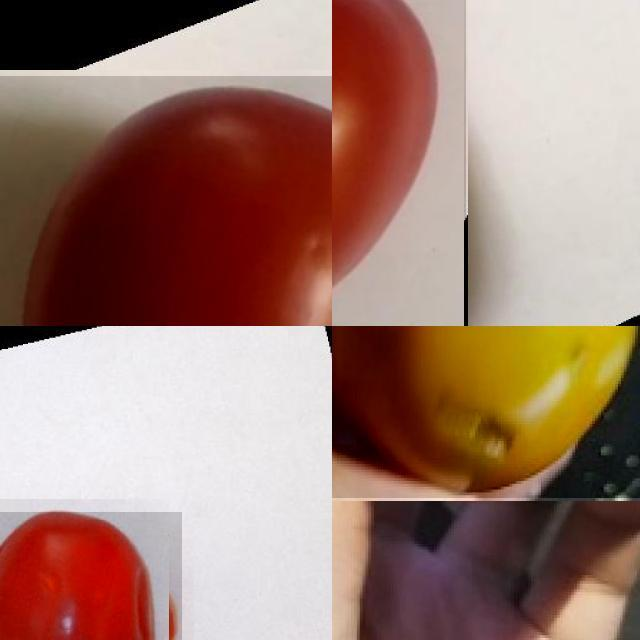Fresh Tomato: (0, 76, 332, 326), (332, 0, 465, 326)
Rotten Tomato: (332, 326, 640, 498), (0, 511, 181, 640)
